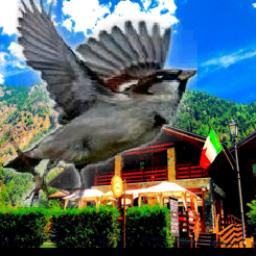Sparrow: (3, 0, 197, 207)
